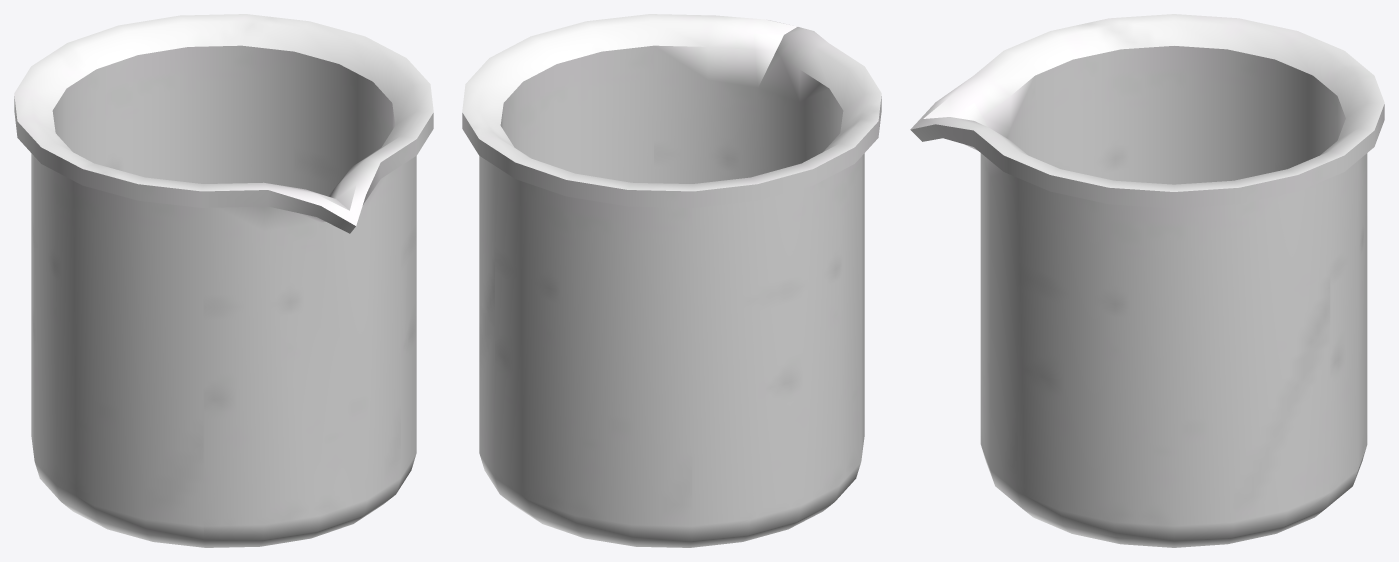
The model's file is beaker.obj.
The picture shows the model from 3 angles, left to right: view 1: azimuth 30°, elevation 25°; view 2: azimuth 150°, elevation 25°; view 3: azimuth 270°, elevation 25°; orthographic projection.
Visible parts, largest first — view 1: Handle1; view 2: Handle1; view 3: Handle1.
Part boxes in pixels (<box>): Handle1: <box>14,14,433,547</box>; Handle1: <box>462,14,881,547</box>; Handle1: <box>910,14,1384,547</box>.
Size of the model in its own units: 0.908 by 0.894 by 1.02.
Materials: 1 (1 with a texture image).
